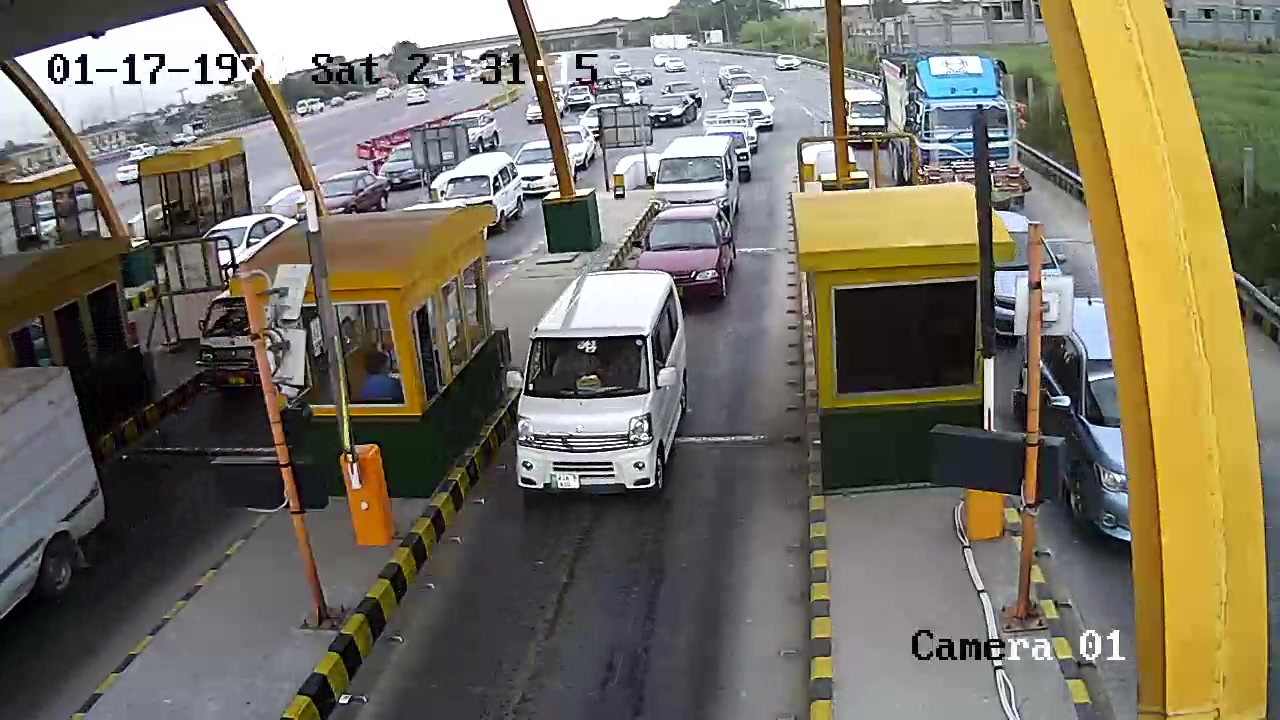F1: (510, 262, 697, 507)
